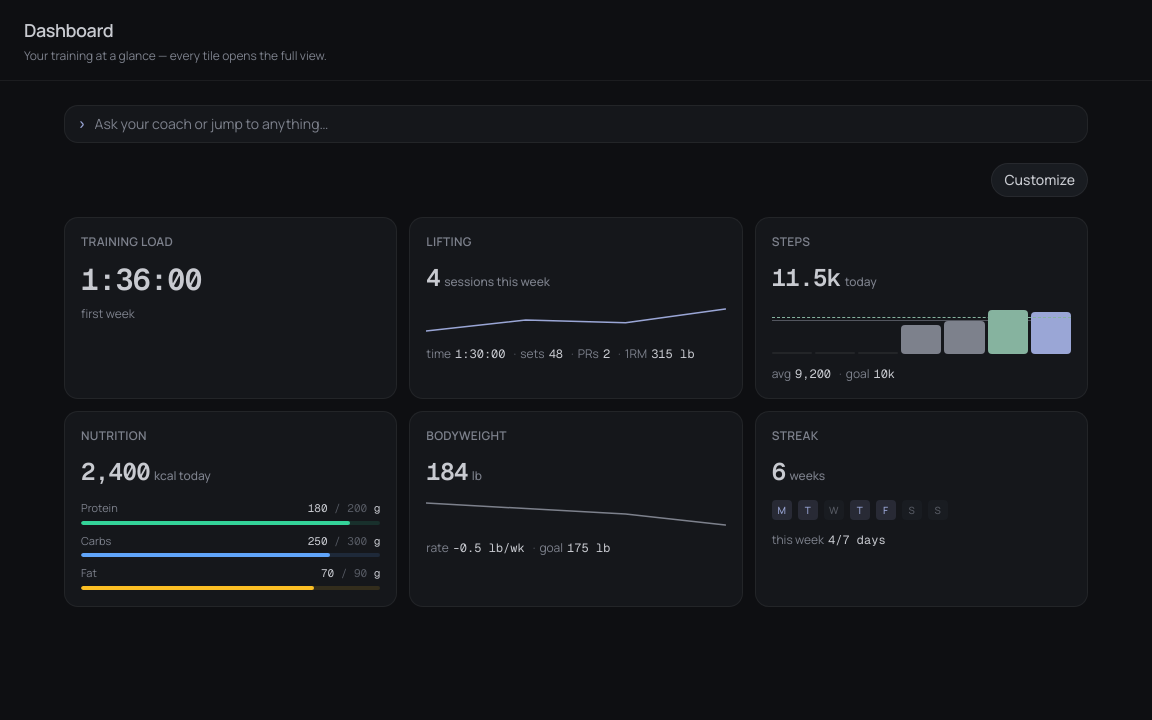
Scenario: DashboardPage — edit mode › enters edit mode via Customize, revealing Remove buttons and the add-tile tray
expect the link "Training Load 1:36:00 first week" is shown: met, box [64,217,397,399]
expect the text "Add a tile" is not shown: met
What coordinates should you click on to do the following:
click the button "Customize"
I would click on:
 (1040, 180)
Its box is [991,163,1088,197].
(page scrolled)
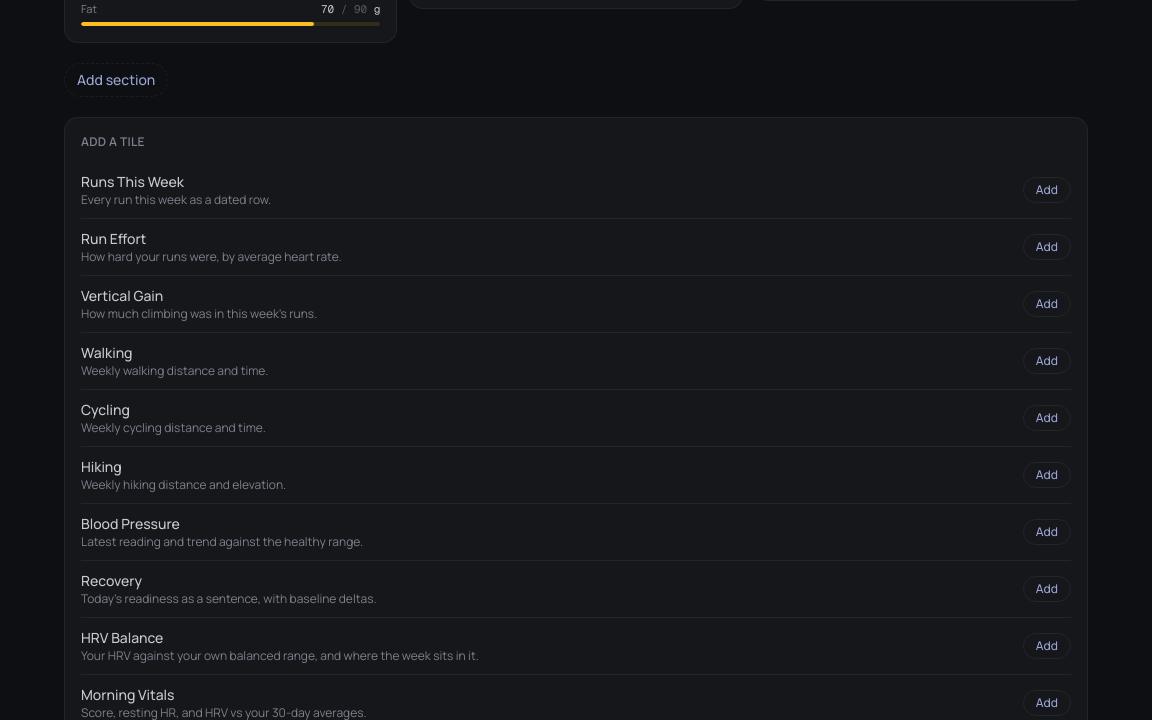
expect the heading "Add a tile" is shown: met, box [81,134,145,150]
expect the button with aria-label "Add Walking" is shown: met, box [1023,348,1071,374]
